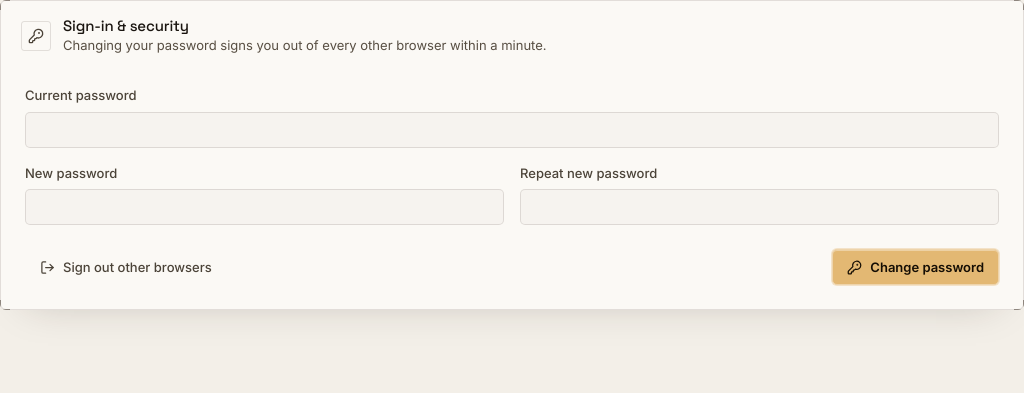
SecurityCard › shows why the server refused the change
Type "wrong-pass-1" into the password field labelled "Current password" at (512, 130), box [25, 112, 999, 148]
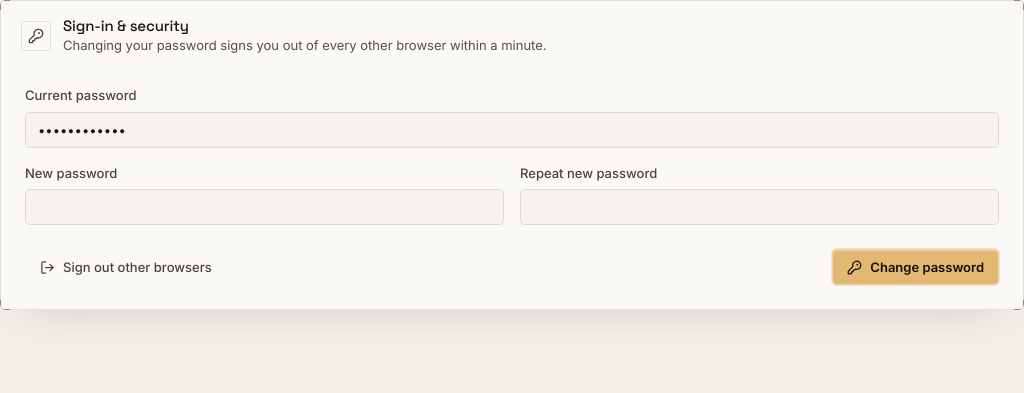
Type "new-pass-2" into the password field labelled "New password" at (264, 207), box [25, 189, 504, 225]
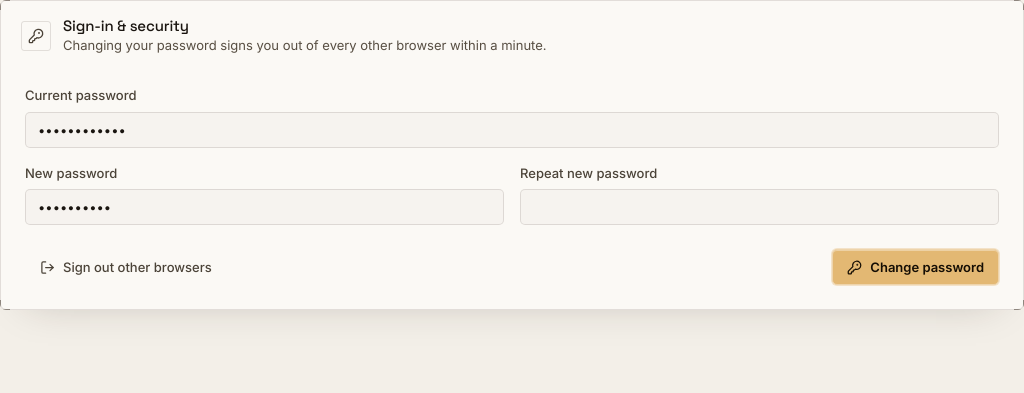
Type "new-pass-2" into the password field labelled "Repeat new password" at (760, 207), box [520, 189, 999, 225]
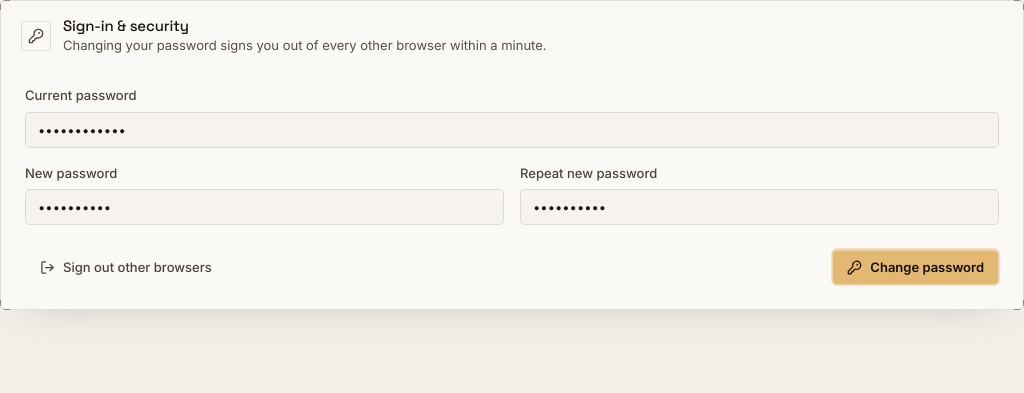
Click the button "Change password" at (916, 267), box [832, 249, 999, 285]
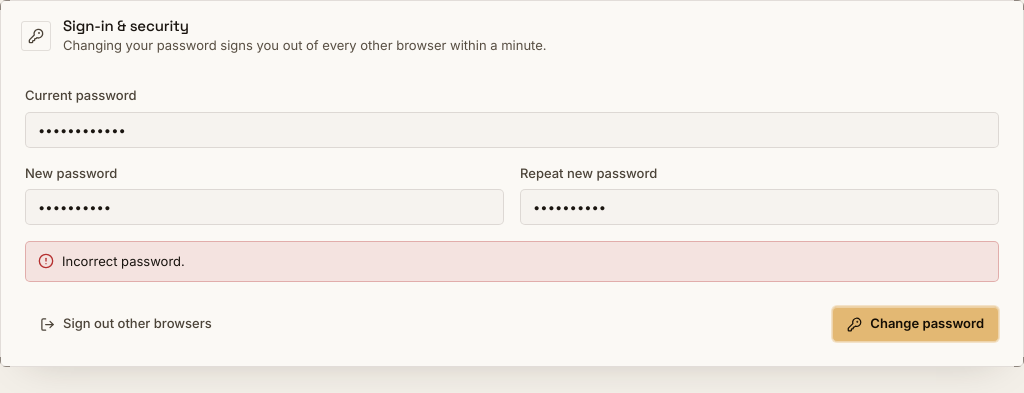
Expected: the text "Incorrect password." is shown, [62, 252, 185, 271]
